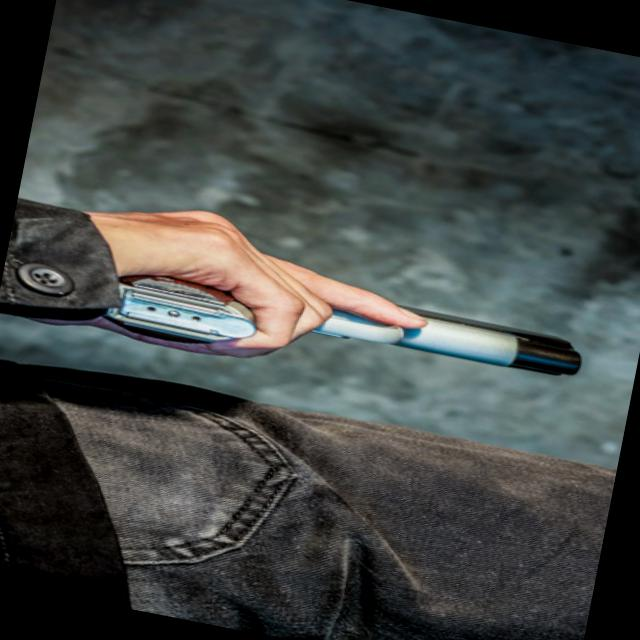handgun: (91, 234, 588, 414)
